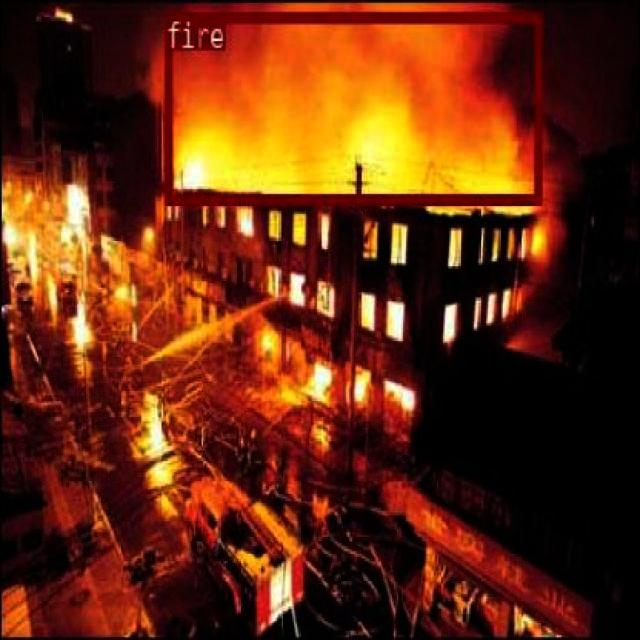fire: (164, 10, 540, 204)
